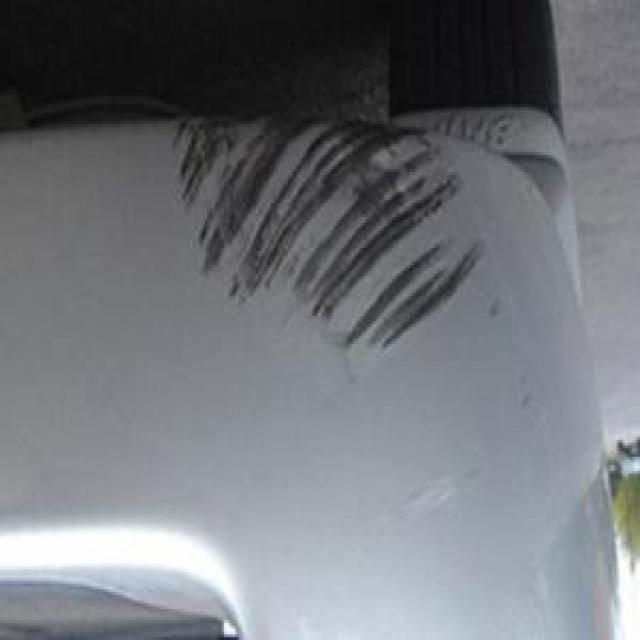scratch: (152, 100, 546, 374)
